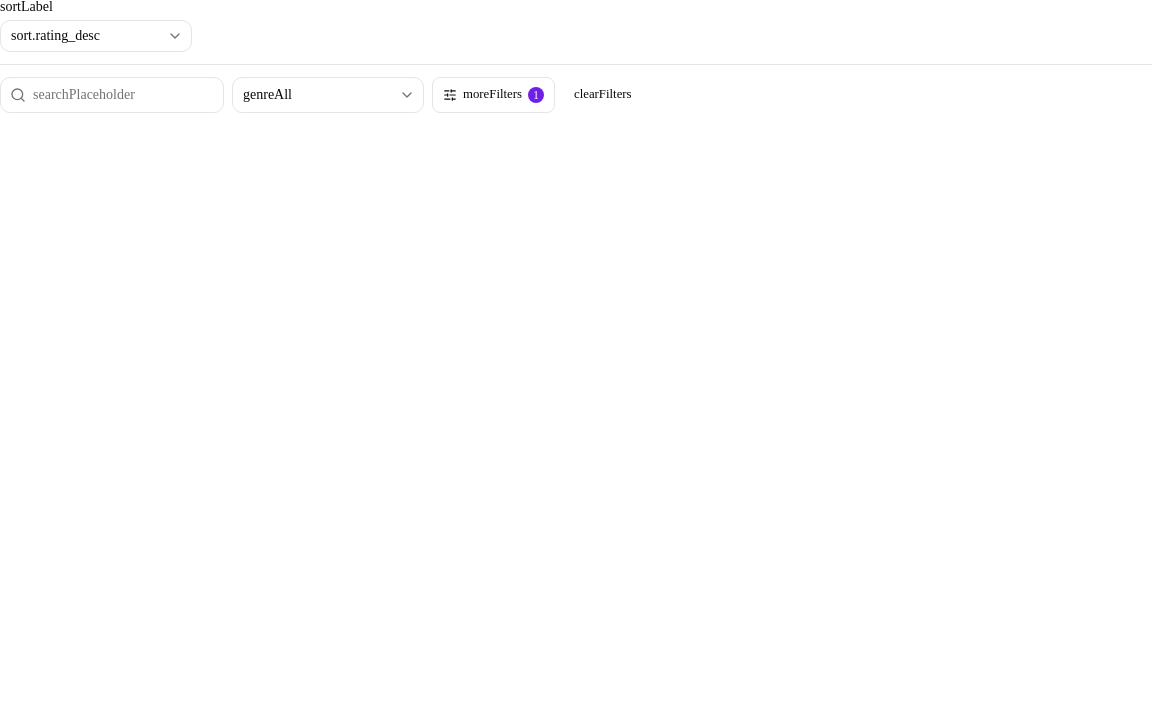
Test: AdminCatalogFilters › shows an inline error and withholds the pending edit when date_from is after date_to
This screenshot has width=1152, height=720.
Click the button "moreFilters 1" at (494, 95), box x1=432 y1=77 x2=555 y2=113
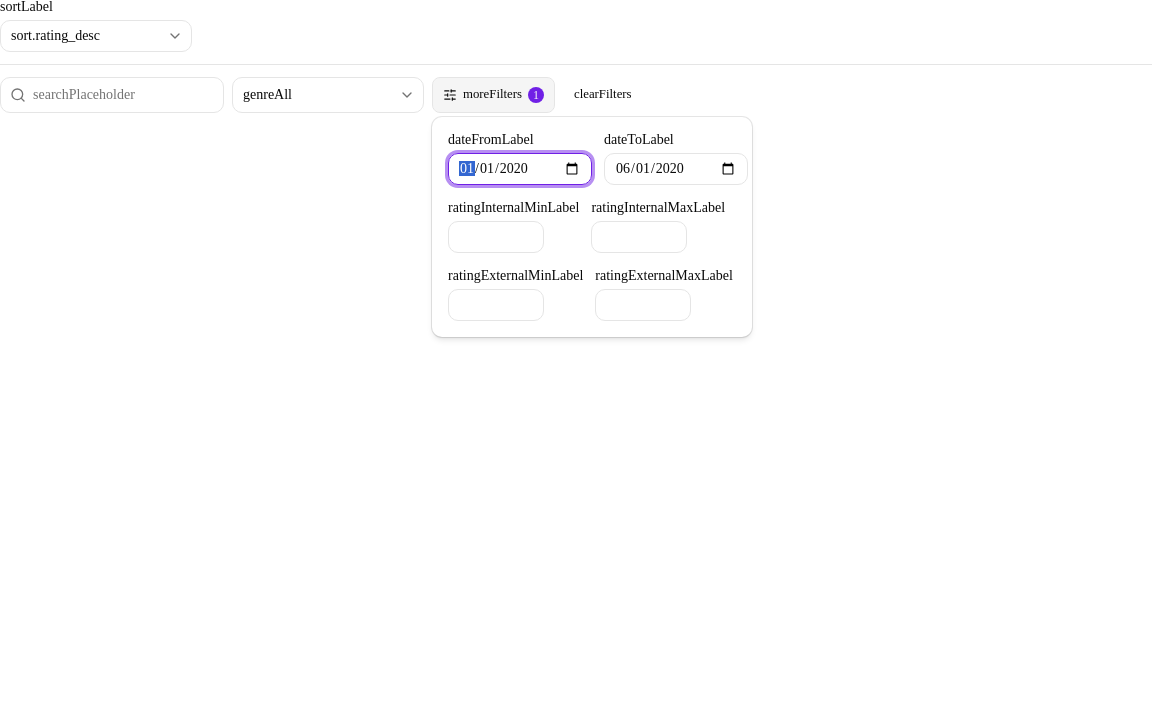
Type "2021-01-01" into the date field labelled "dateFromLabel" at (520, 169), box x1=448 y1=153 x2=592 y2=185
Wait 300 ms
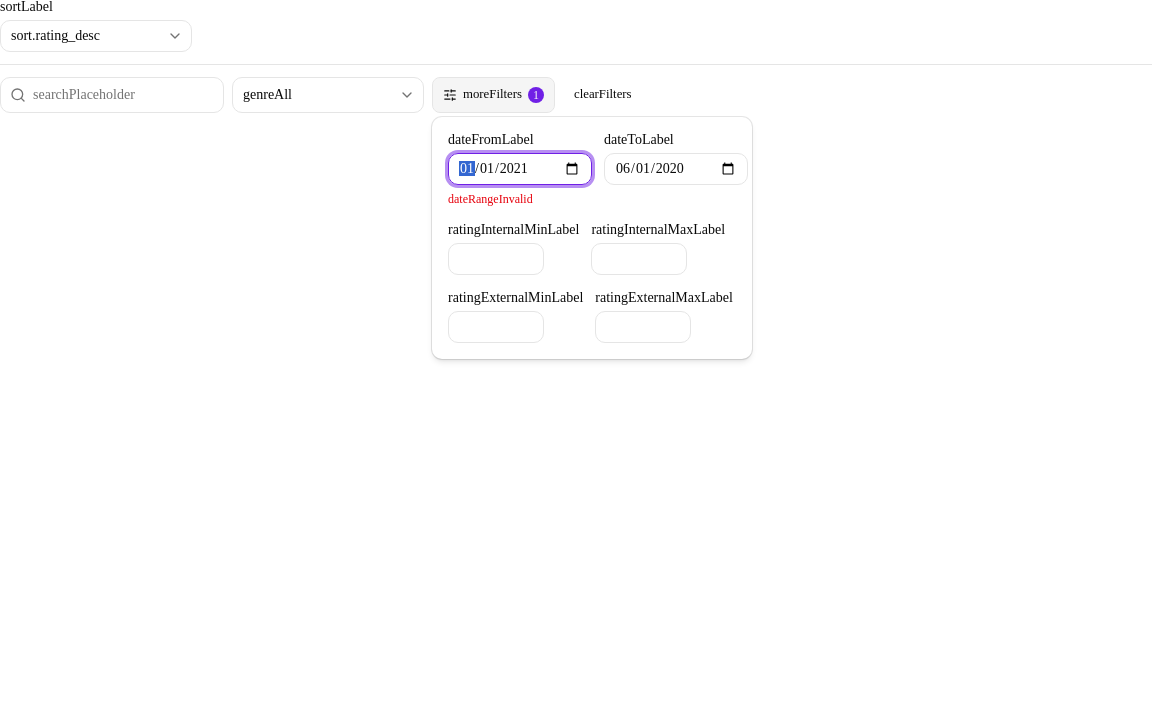
Expected: the message reads "dateRangeInvalid", x1=448 y1=192 x2=533 y2=206
